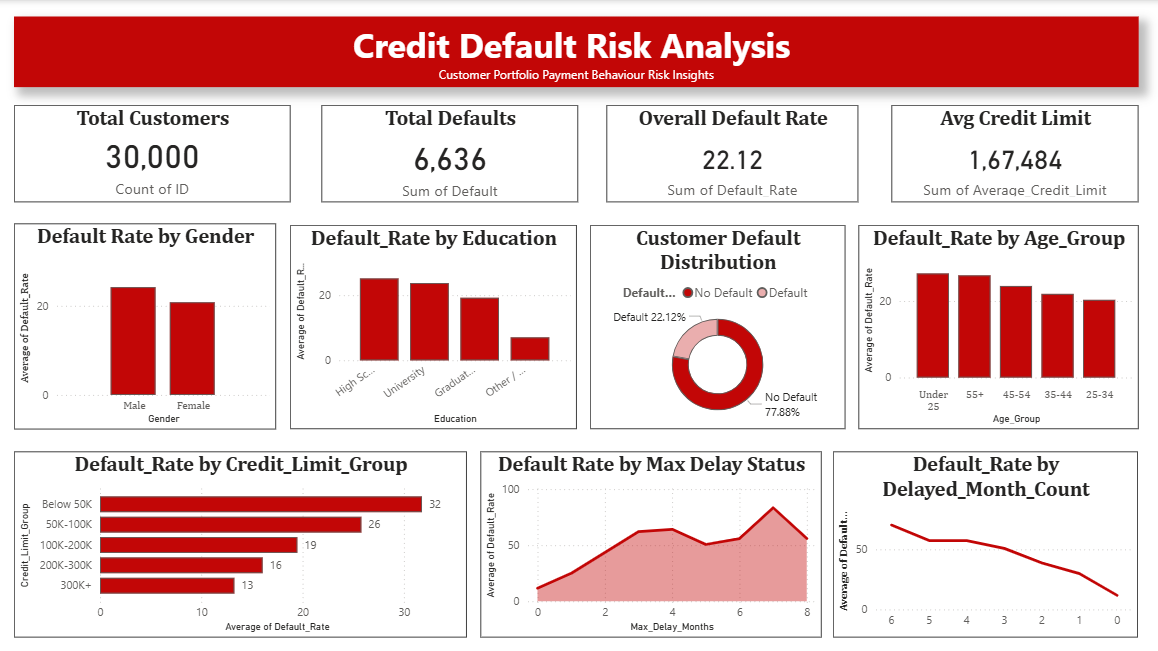

Layout of this report page (visuals, bound fields, positions):
{"tool":"powerbi","page":{"name":"Credit Risk Overview","canvas":[1280,720],"ordinal":0},"visuals":[{"type":"card","title":"Total Customers","fields":{"Values":["Count(customer_overview.ID)"]},"box":[16.4,116.4,305.5,107.3],"z":0},{"type":"card","title":"Total Defaults","fields":{"Values":["Sum(customer_overview.Default)"]},"box":[356.4,116.4,283.6,107.3],"z":1000},{"type":"card","title":"Overall Default Rate","fields":{"Values":["Sum(overall_kpis.Default_Rate)"]},"box":[670.9,116.4,278.2,107.3],"z":2000},{"type":"card","title":"Avg Credit Limit","fields":{"Values":["Sum(overall_kpis.Average_Credit_Limit)"]},"box":[985.5,116.4,272.7,107.3],"z":3000},{"type":"donutChart","title":"Customer Default Distribution","fields":{"Category":["customer_overview.Default_Status"],"Y":["Count(customer_overview.ID)"]},"box":[652.7,249.1,281.8,225.5],"z":4000},{"type":"clusteredColumnChart","title":"Default Rate by Gender","fields":{"Category":["gender_summary.Gender"],"Y":["Avg(gender_summary.Default_Rate)"]},"box":[16.4,247.3,289.1,227.3],"z":5000},{"type":"clusteredColumnChart","title":"Default_Rate by Education","fields":{"Category":["education_summary.Education"],"Y":["Avg(education_summary.Default_Rate)"]},"box":[321.8,249.1,316.4,225.5],"z":6000},{"type":"clusteredColumnChart","title":"Default_Rate by Age_Group","fields":{"Category":["age_group_summary.Age_Group"],"Y":["Avg(age_group_summary.Default_Rate)"]},"box":[949.1,249.1,309.1,225.5],"z":7000},{"type":"clusteredBarChart","title":"Default_Rate by Credit_Limit_Group","fields":{"Category":["credit_limit_summary.Credit_Limit_Group"],"Y":["Avg(credit_limit_summary.Default_Rate)"]},"box":[16.4,498.2,500,205.5],"z":8000},{"type":"lineChart","title":"Default_Rate by Delayed_Month_Count","fields":{"Category":["delayed_months_summary.Delayed_Month_Count"],"Y":["Avg(delayed_months_summary.Default_Rate)"]},"box":[921.8,498.2,336.4,205.5],"z":9000},{"type":"areaChart","title":"Default Rate by Max Delay Status","fields":{"Category":["maximum_delay_summary.Max_Delay_Months"],"Y":["Avg(maximum_delay_summary.Default_Rate)"]},"box":[530.9,498.2,376.4,205.5],"z":10000},{"type":"textbox","box":[16.4,18.2,1241.8,78.2],"z":11000}]}

Visuals, with their boxes in screenshot pixels (x1, y1, x2, y2), scaled from the page's 1280x720 canvas onto the 1158x651 screenshot:
"Total Customers" card: {"x1": 15, "y1": 105, "x2": 291, "y2": 202}
"Total Defaults" card: {"x1": 322, "y1": 105, "x2": 579, "y2": 202}
"Overall Default Rate" card: {"x1": 607, "y1": 105, "x2": 859, "y2": 202}
"Avg Credit Limit" card: {"x1": 892, "y1": 105, "x2": 1138, "y2": 202}
"Customer Default Distribution" donutChart: {"x1": 590, "y1": 225, "x2": 845, "y2": 429}
"Default Rate by Gender" clusteredColumnChart: {"x1": 15, "y1": 224, "x2": 276, "y2": 429}
"Default_Rate by Education" clusteredColumnChart: {"x1": 291, "y1": 225, "x2": 577, "y2": 429}
"Default_Rate by Age_Group" clusteredColumnChart: {"x1": 859, "y1": 225, "x2": 1138, "y2": 429}
"Default_Rate by Credit_Limit_Group" clusteredBarChart: {"x1": 15, "y1": 450, "x2": 467, "y2": 636}
"Default_Rate by Delayed_Month_Count" lineChart: {"x1": 834, "y1": 450, "x2": 1138, "y2": 636}
"Default Rate by Max Delay Status" areaChart: {"x1": 480, "y1": 450, "x2": 821, "y2": 636}
textbox: {"x1": 15, "y1": 16, "x2": 1138, "y2": 87}
